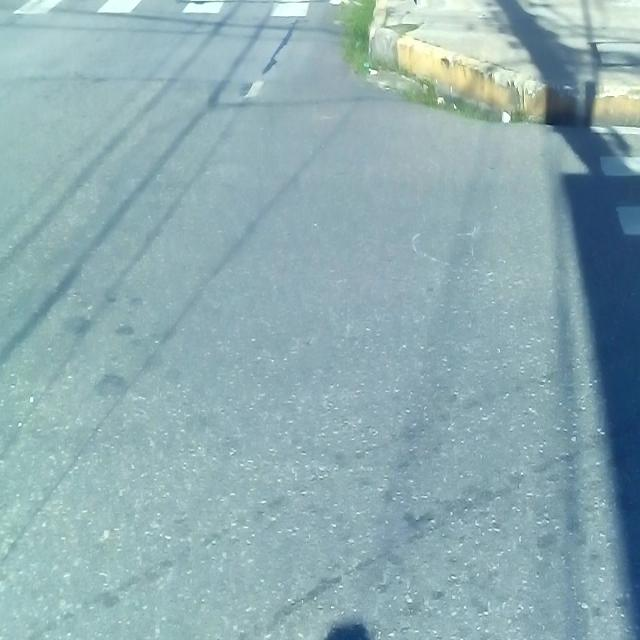crosswalk: (587, 124, 640, 317)
